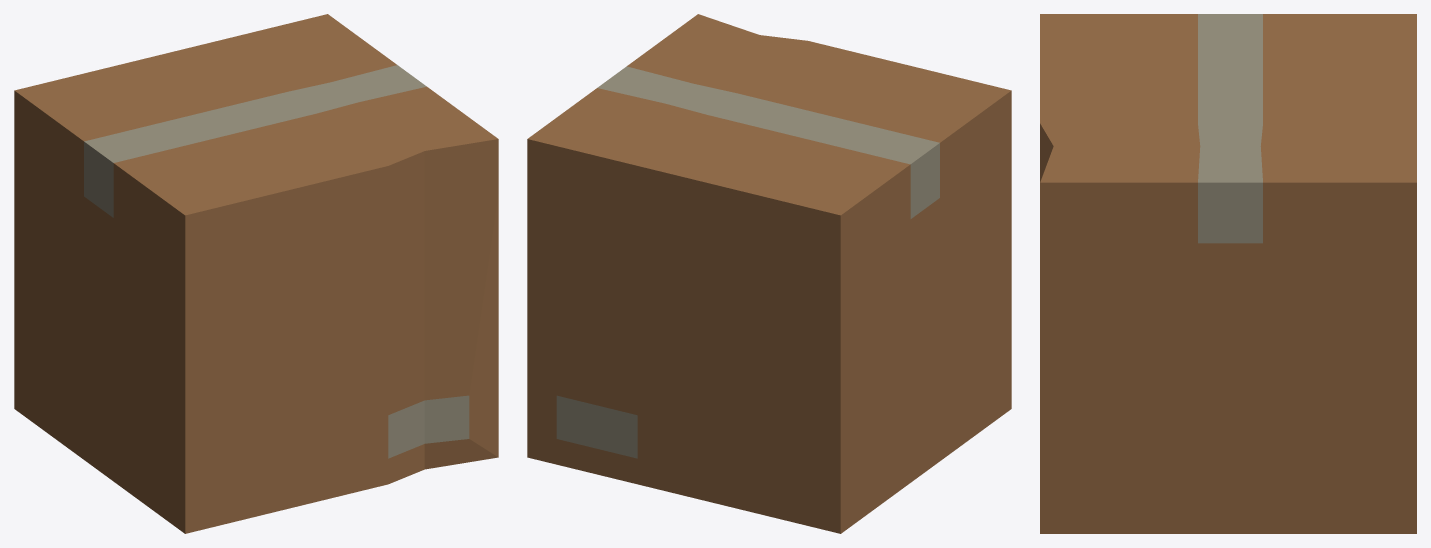
Rendered from box_stack.glb.
3 views of the same model, side by side, from view 1: azimuth 30°, elevation 25°; view 2: azimuth 150°, elevation 25°; view 3: azimuth 270°, elevation 25° (orthographic). The views are drawn at different scales.
Visible parts, largest first — view 1: CardboardBoxes_2; view 2: CardboardBoxes_2; view 3: CardboardBoxes_2.
Boxes of the visible parts, box(x1,y1,x2,y2) form: CardboardBoxes_2: box(14, 14, 498, 533); CardboardBoxes_2: box(527, 14, 1011, 533); CardboardBoxes_2: box(1040, 14, 1416, 533).
Bounding box in the file's own units: 0.9755 × 0.9473 × 0.9207.
